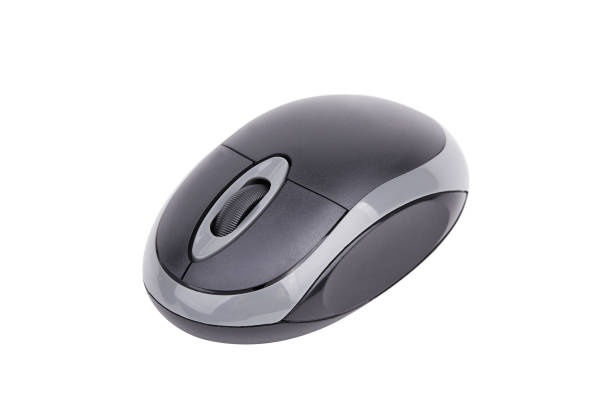mouse: (141, 90, 470, 342)
